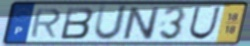3: (155, 5, 190, 42)
B: (59, 6, 96, 40)
N: (121, 5, 161, 41)
R: (28, 8, 63, 39)
U: (91, 5, 130, 43), (187, 6, 223, 41)
